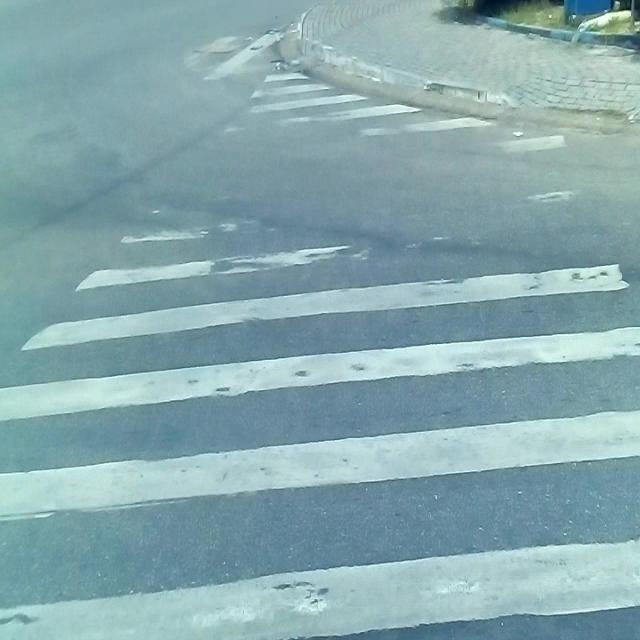crosswalk: (0, 48, 640, 640)
